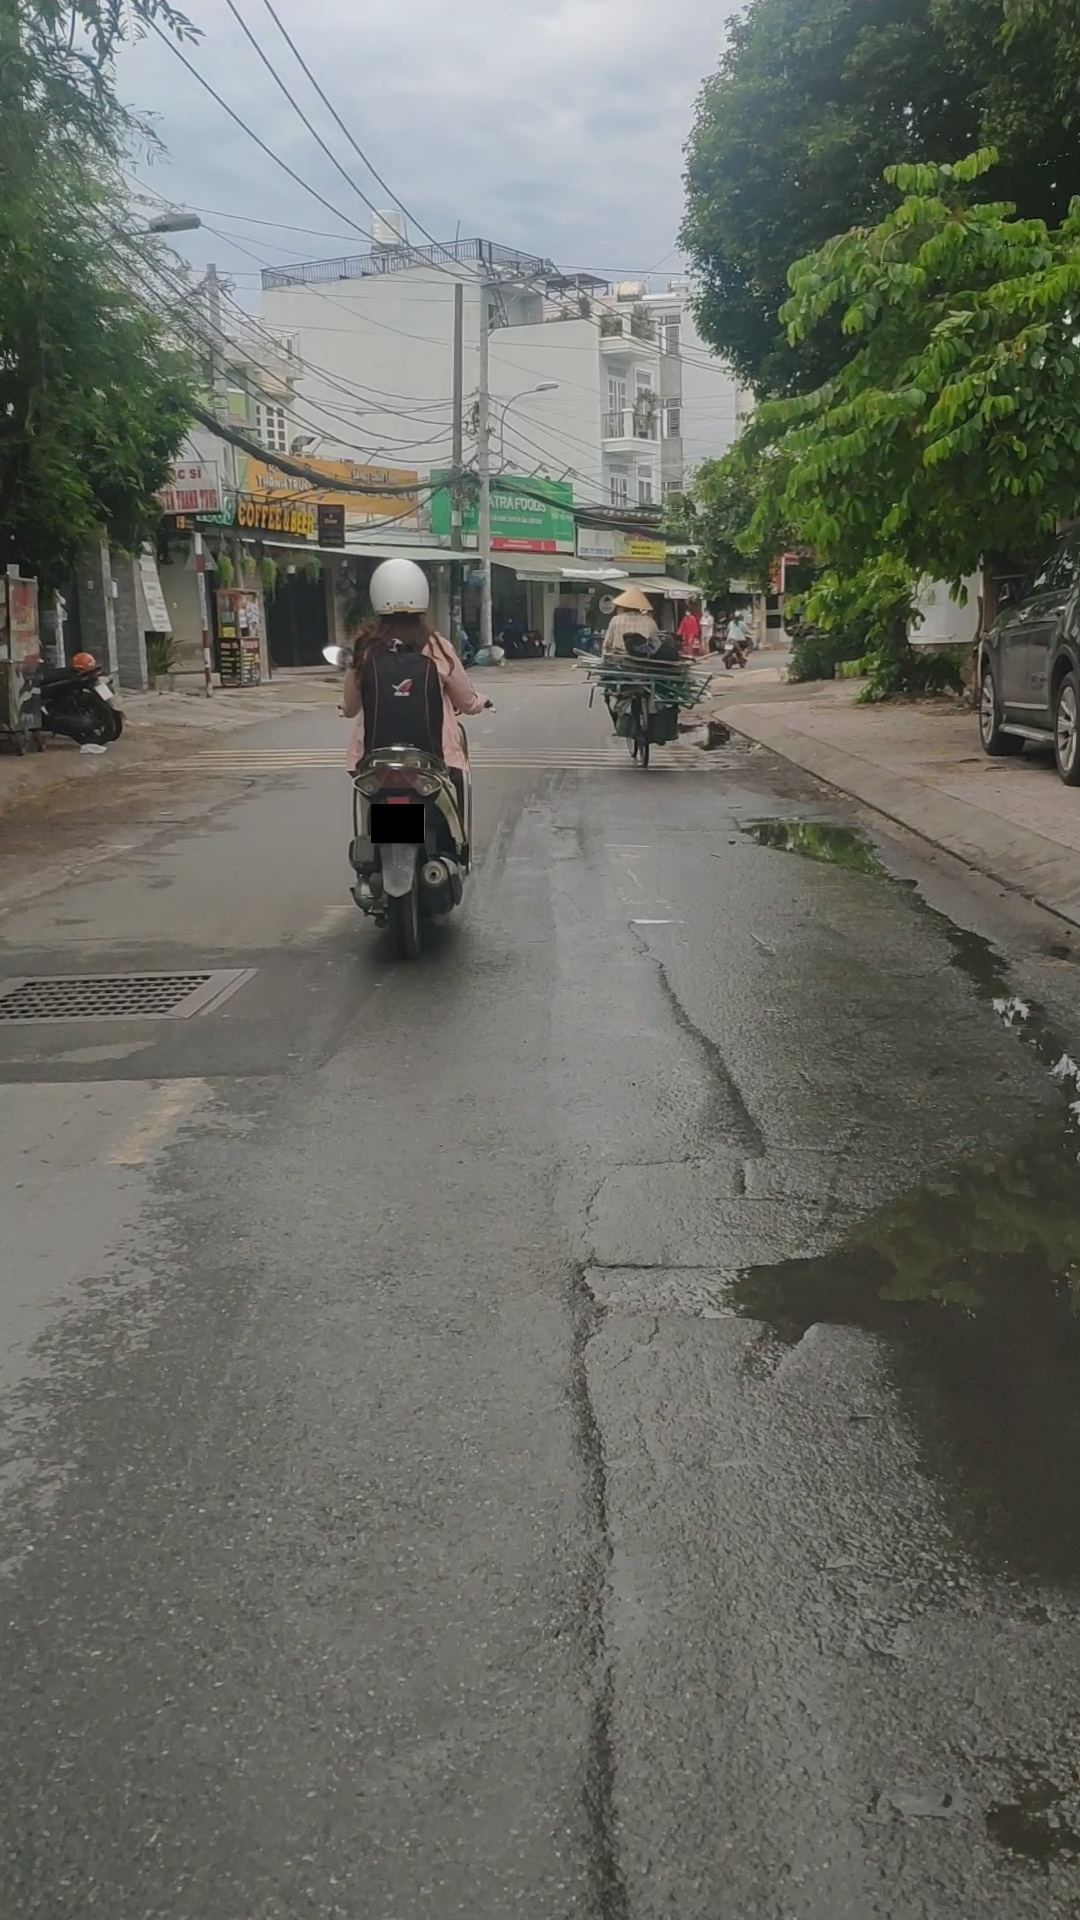hole: (698, 1065, 1080, 1627), (728, 814, 922, 895), (678, 717, 735, 752)
